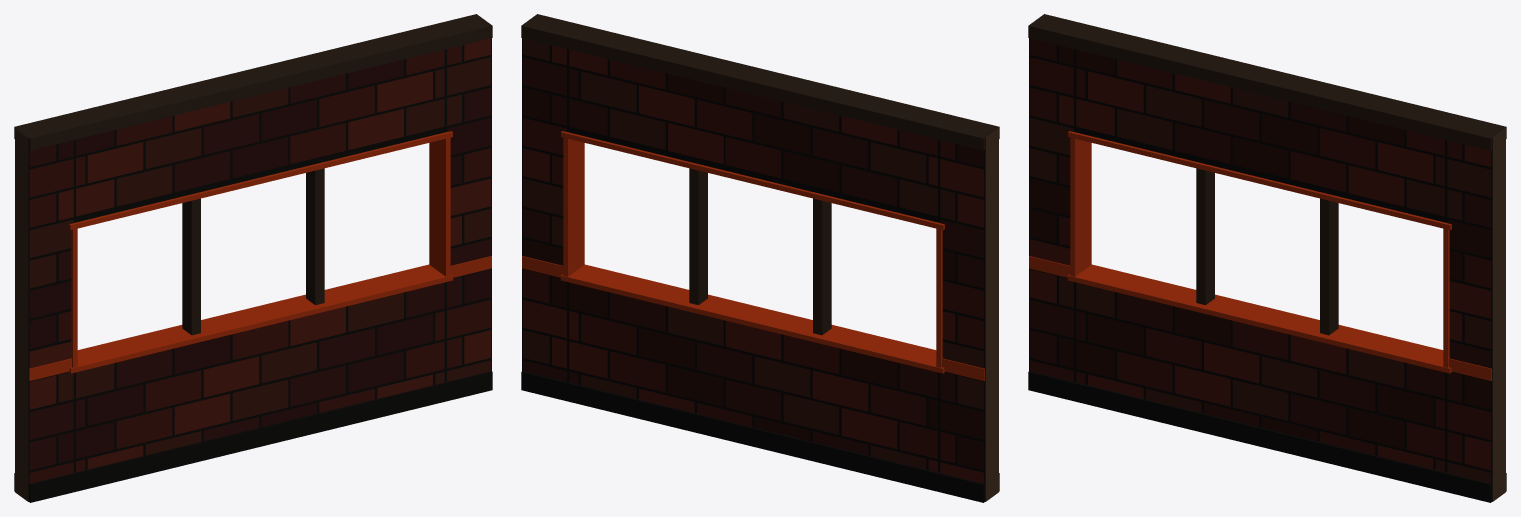
File: SM_Wall_Window_4x3_Hideout.glb
The picture shows the model from 3 angles, left to right: view 1: azimuth 30°, elevation 25°; view 2: azimuth 150°, elevation 25°; view 3: azimuth 330°, elevation 25°; orthographic projection.
Parts seen in each view (by area): view 1: SM_Wall_Window_4x3_Hideout-col; view 2: SM_Wall_Window_4x3_Hideout-col; view 3: SM_Wall_Window_4x3_Hideout-col.
Boxes of the visible parts, x1,y1,x2,y2 form: SM_Wall_Window_4x3_Hideout-col: (14, 14, 492, 502); SM_Wall_Window_4x3_Hideout-col: (521, 14, 999, 502); SM_Wall_Window_4x3_Hideout-col: (1028, 14, 1506, 502).
Bounding box in the file's own units: 4 × 3 × 0.26.
